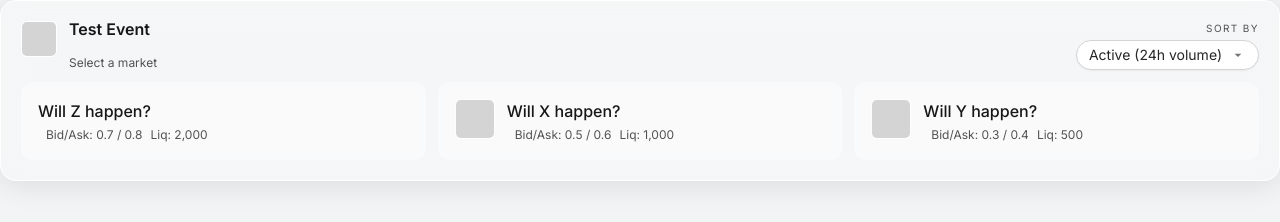
Test: MarketSelection Component › opens and closes sort dropdown
The image size is (1280, 222).
Click the button "Active (24h volume)": (1168, 55) [1076, 40, 1259, 70]
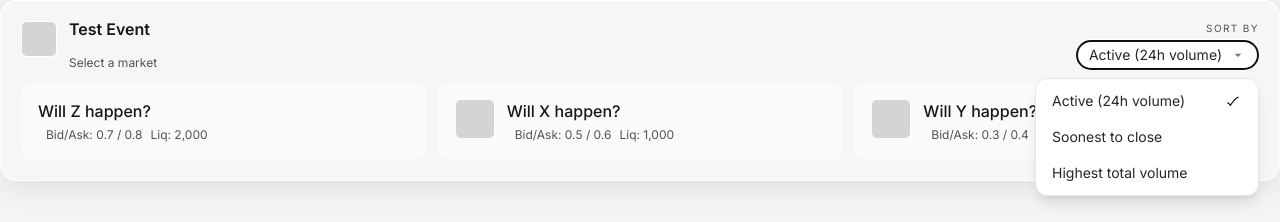
Expected: the list is shown, [1040, 83, 1254, 191]
Expected: the text "Soonest to close" is shown, [1052, 127, 1162, 147]
Expected: the text "Highest total volume" is shown, [1052, 163, 1188, 183]
